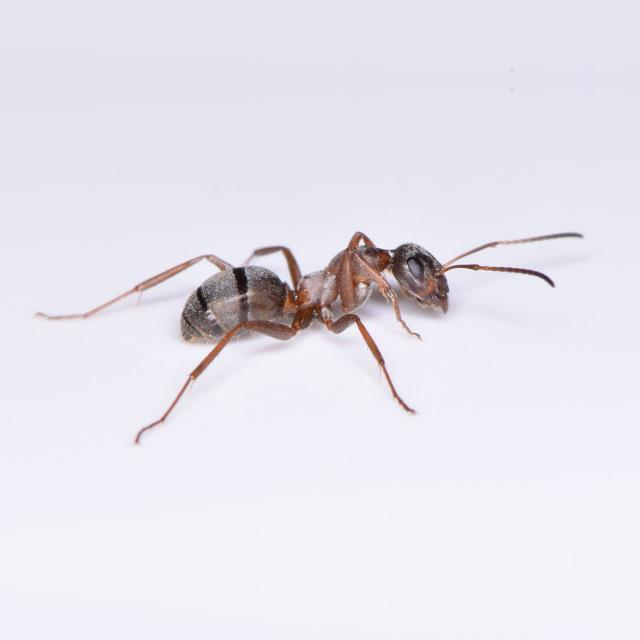Formica: (152, 192, 476, 394)
